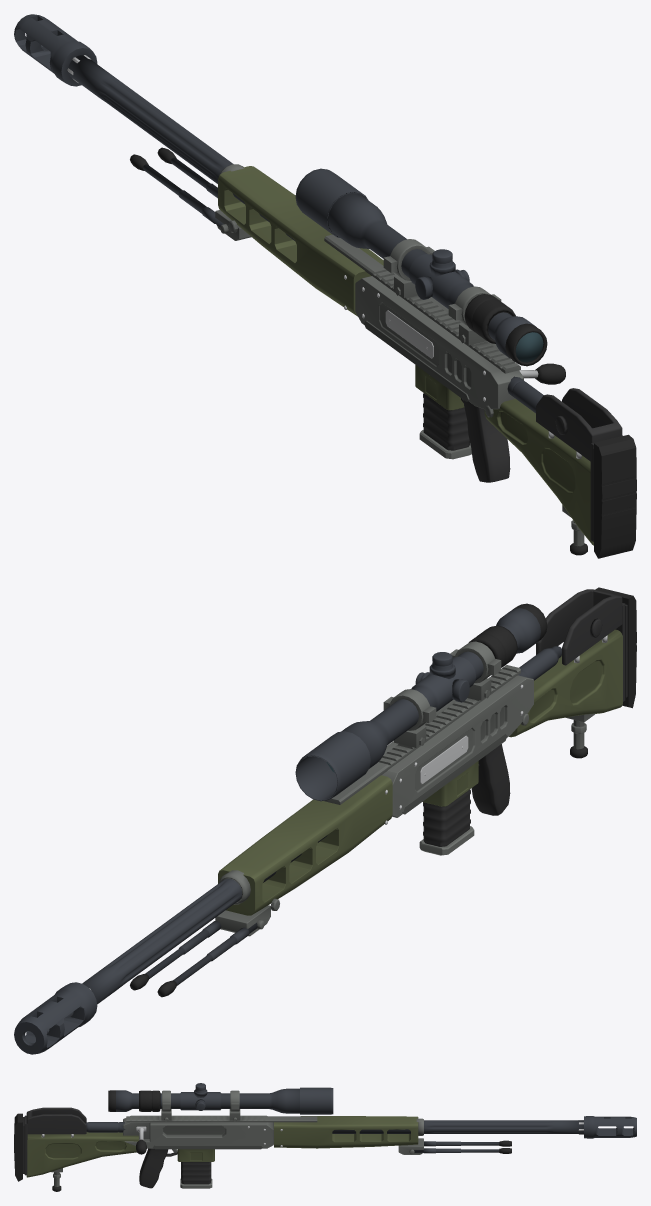
File: vm_sniper.glb
The picture shows the model from 3 angles, top to bottom: view 1: azimuth 30°, elevation 25°; view 2: azimuth 150°, elevation 25°; view 3: azimuth 270°, elevation 25°; orthographic projection. The views are drawn at different scales.
Parts seen in each view (by area): view 1: body_steel_blued, body_paint_olive, body_steel_park, body_rubber, body_polymer, mag, bolt, body_steel_bare; view 2: body_steel_blued, body_paint_olive, body_steel_park, body_polymer, body_rubber, mag, body_steel_bare, bolt; view 3: body_steel_blued, body_paint_olive, body_steel_park, body_polymer, body_rubber, mag, bolt.
Part boxes in pixels (bbox=[...]): body_steel_blued: bbox=[14, 14, 536, 358]; body_paint_olive: bbox=[218, 166, 593, 545]; body_steel_park: bbox=[215, 164, 584, 546]; body_rubber: bbox=[130, 147, 636, 558]; body_polymer: bbox=[461, 388, 622, 541]; mag: bbox=[419, 393, 471, 459]; bolt: bbox=[507, 363, 565, 413]; body_steel_bare: bbox=[67, 55, 581, 458]; body_steel_blued: bbox=[14, 608, 540, 1054]; body_paint_olive: bbox=[218, 629, 622, 915]; body_steel_park: bbox=[215, 641, 594, 936]; body_polymer: bbox=[471, 589, 627, 815]; body_rubber: bbox=[130, 587, 636, 997]; mag: bbox=[419, 789, 474, 855]; body_steel_bare: bbox=[89, 635, 607, 989]; bolt: bbox=[518, 646, 561, 680]; body_steel_blued: bbox=[116, 1083, 636, 1153]; body_paint_olive: bbox=[26, 1116, 418, 1177]; body_steel_park: bbox=[51, 1090, 423, 1186]; body_polymer: bbox=[23, 1107, 177, 1188]; body_rubber: bbox=[14, 1090, 511, 1191]; mag: bbox=[180, 1162, 212, 1188]; bolt: bbox=[85, 1122, 146, 1154].
Size of the model in its own units: 0.1183 by 0.2545 by 1.36.
